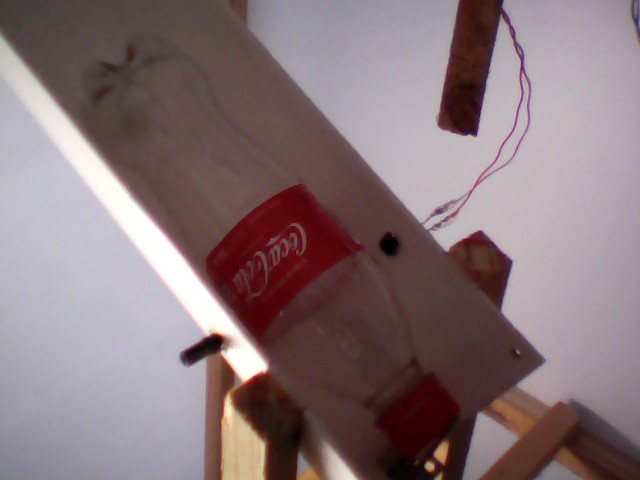plastico: (63, 31, 476, 470)
